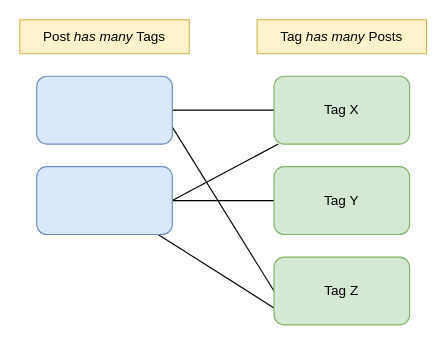
Some shapes in this 446 by 345 pixel diagram are drawn without their labels. Each missing label, with the centre of its shape:
"Post A" belongs at (104,109).
"Post B" belongs at (104,200).
